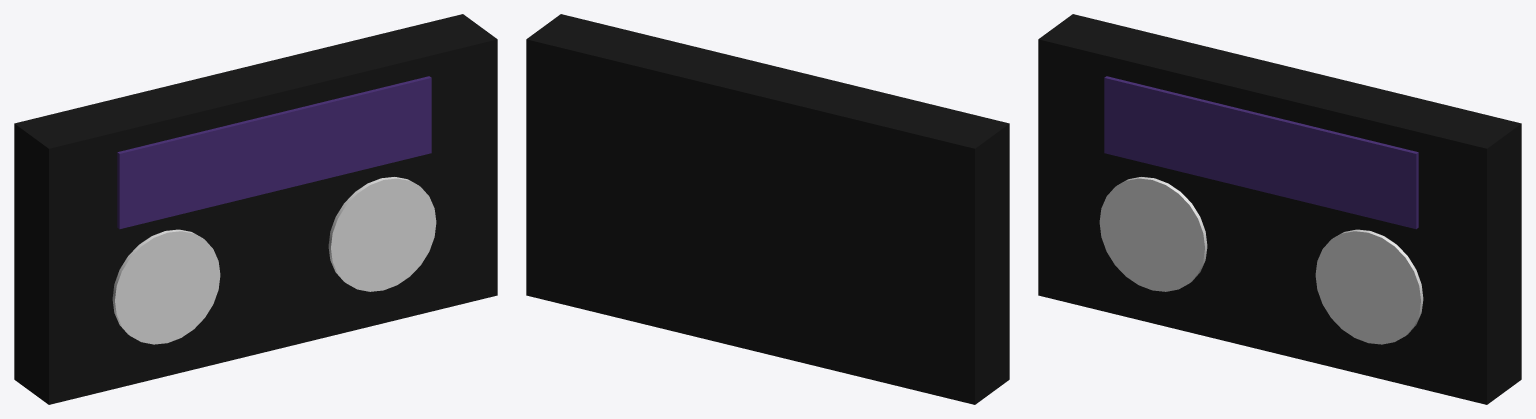
File: vhs-4.glb
3 renders of one model, left to right at view 1: azimuth 30°, elevation 25°; view 2: azimuth 150°, elevation 25°; view 3: azimuth 330°, elevation 25°, orthographic.
Size of the model in its own units: 0.187 by 0.102 by 0.0267.
